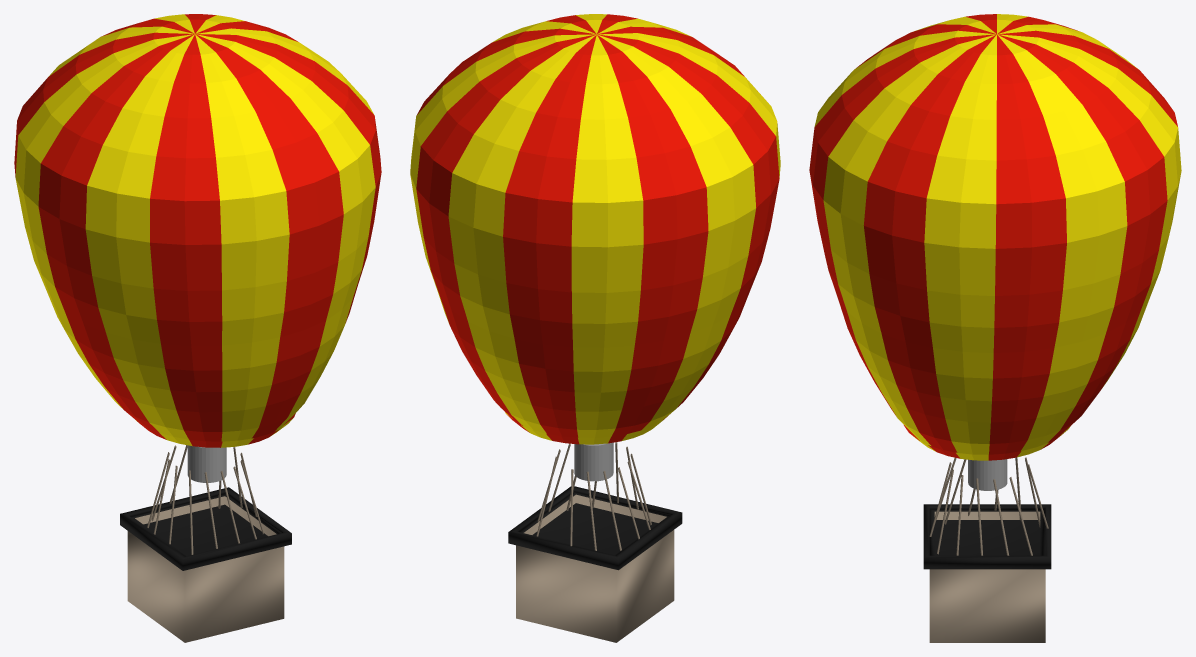
Rendered from baloon.fbx.
3 views of the same model, side by side, from view 1: azimuth 30°, elevation 25°; view 2: azimuth 150°, elevation 25°; view 3: azimuth 270°, elevation 25° (orthographic).
Visible parts, largest first — view 1: Mongollfière; view 2: Mongollfière; view 3: Mongollfière.
Boxes of the visible parts, bbox=[...] form: Mongollfière: bbox=[14, 14, 381, 642]; Mongollfière: bbox=[410, 14, 780, 642]; Mongollfière: bbox=[809, 14, 1181, 642].
Size of the model in its own units: 641 by 1104 by 641.
